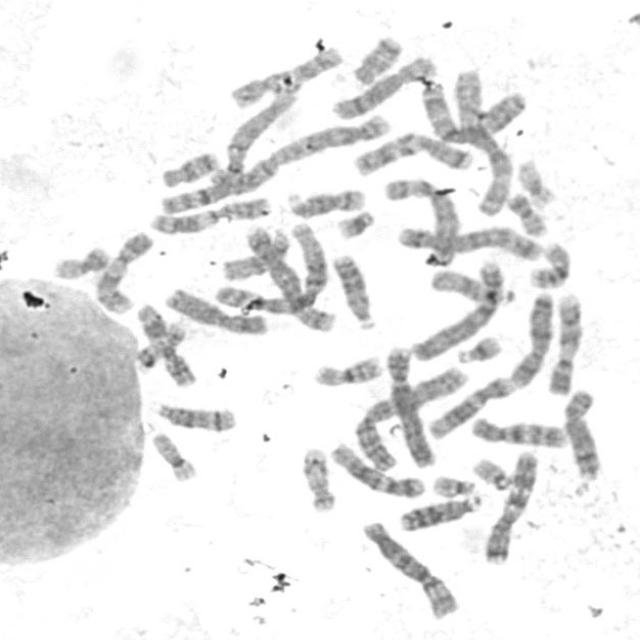A1: (154, 81, 302, 218), (212, 220, 331, 314)
A2: (151, 109, 397, 214), (346, 361, 469, 472)
A3: (449, 64, 515, 217), (415, 78, 529, 144)
B4: (406, 253, 508, 362), (381, 340, 441, 469)
B5: (244, 223, 336, 332), (391, 220, 547, 262)
C10: (227, 42, 346, 109), (466, 411, 570, 450)
C11: (131, 298, 197, 389), (145, 192, 273, 235)
C12: (423, 371, 518, 441), (325, 438, 428, 499)
C6: (358, 515, 463, 621), (379, 173, 461, 266)
C7: (477, 444, 542, 566), (348, 127, 477, 177)
C8: (328, 50, 441, 122), (558, 383, 604, 482)
C9: (91, 227, 155, 316), (541, 287, 586, 397)
D13: (328, 248, 379, 330), (394, 489, 484, 533)
D14: (149, 397, 239, 433), (284, 183, 370, 218)
D15: (217, 224, 292, 283), (426, 264, 516, 306)
E16: (309, 350, 385, 389), (524, 237, 574, 290)
E17: (131, 318, 188, 374), (298, 442, 338, 514)
E18: (347, 30, 405, 86), (157, 146, 221, 190)
F19: (147, 427, 200, 484), (512, 154, 559, 210)
F20: (502, 187, 552, 238), (48, 242, 111, 282)
G21: (453, 329, 506, 365), (332, 205, 378, 241)
G22: (468, 453, 514, 491), (428, 471, 480, 498)
X: (159, 282, 271, 338), (508, 286, 558, 390)
